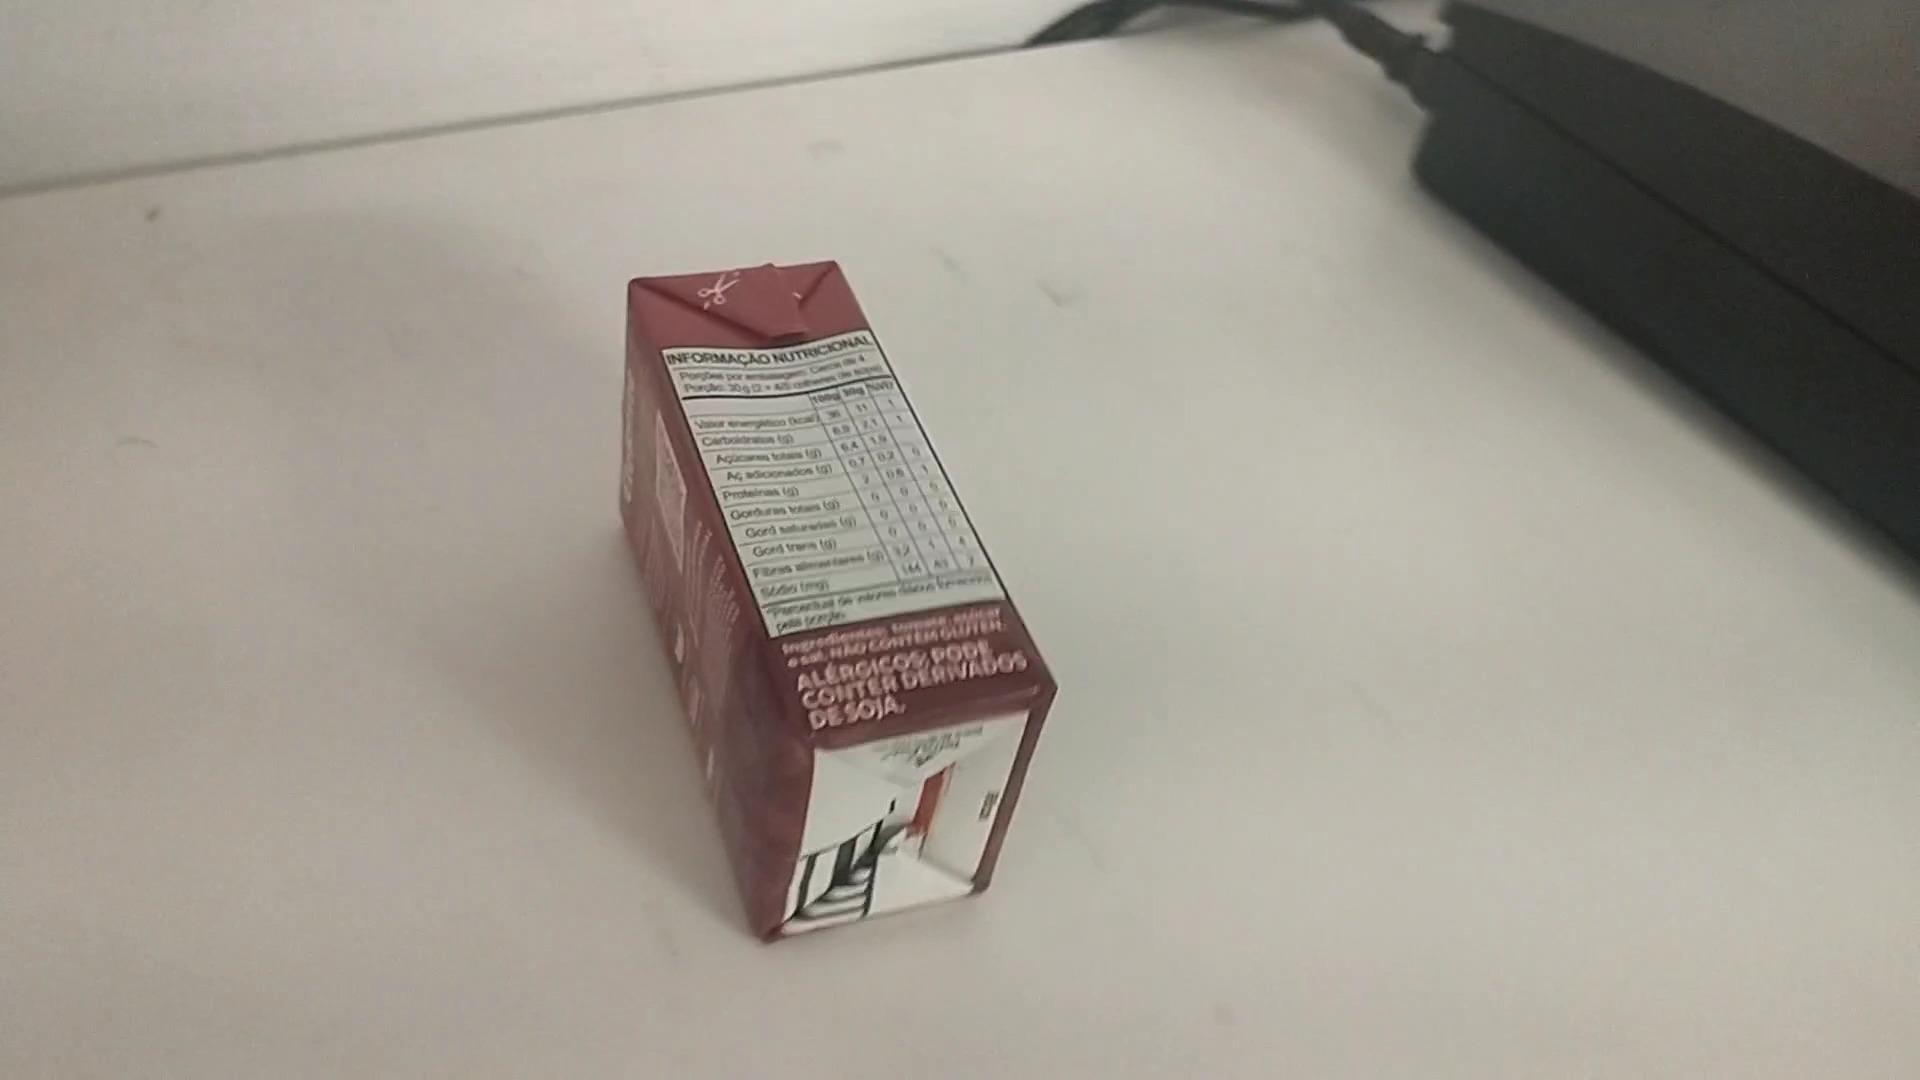tomate: (613, 266, 1060, 948)
